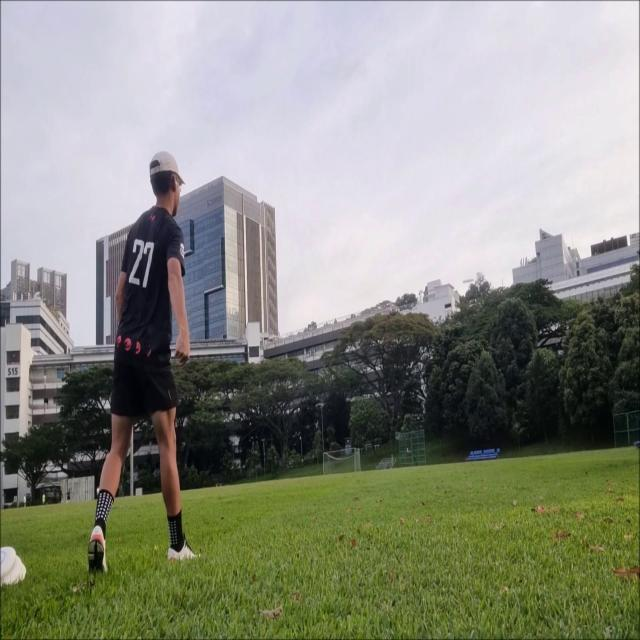disc: (461, 278, 476, 284)
